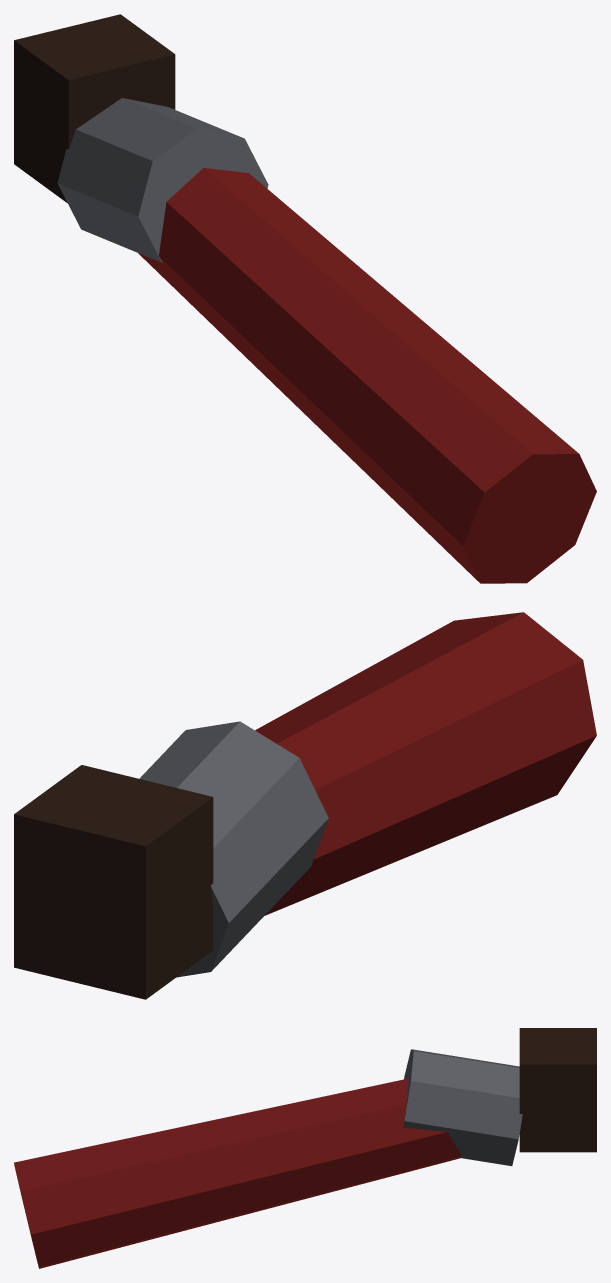
File: fp_arm_r.glb
3 views of the same model, one above another, from view 1: azimuth 30°, elevation 25°; view 2: azimuth 150°, elevation 25°; view 3: azimuth 270°, elevation 25° (orthographic). The views are drawn at different scales.
Visible parts, largest first — view 1: fp_arm; view 2: fp_arm; view 3: fp_arm.
Part boxes in pixels (box(x1,y1,x2,y2)): fp_arm: box(14, 14, 596, 583); fp_arm: box(14, 612, 596, 999); fp_arm: box(14, 1028, 596, 1268).
Bounding box in the file's own units: 0.1645 × 0.2284 × 0.603.
